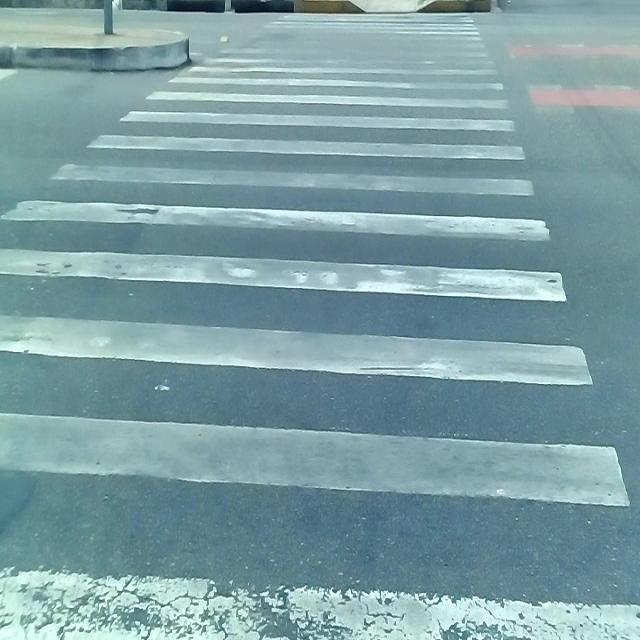crosswalk: (0, 12, 640, 640)
